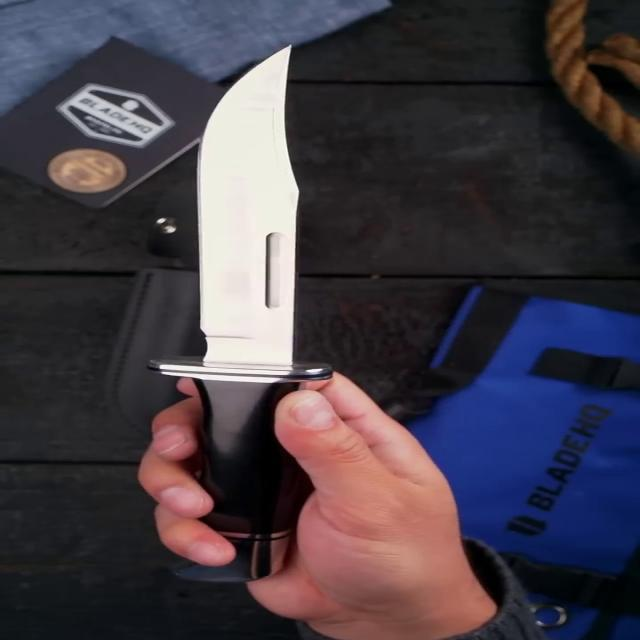Knife: (140, 36, 391, 600)
